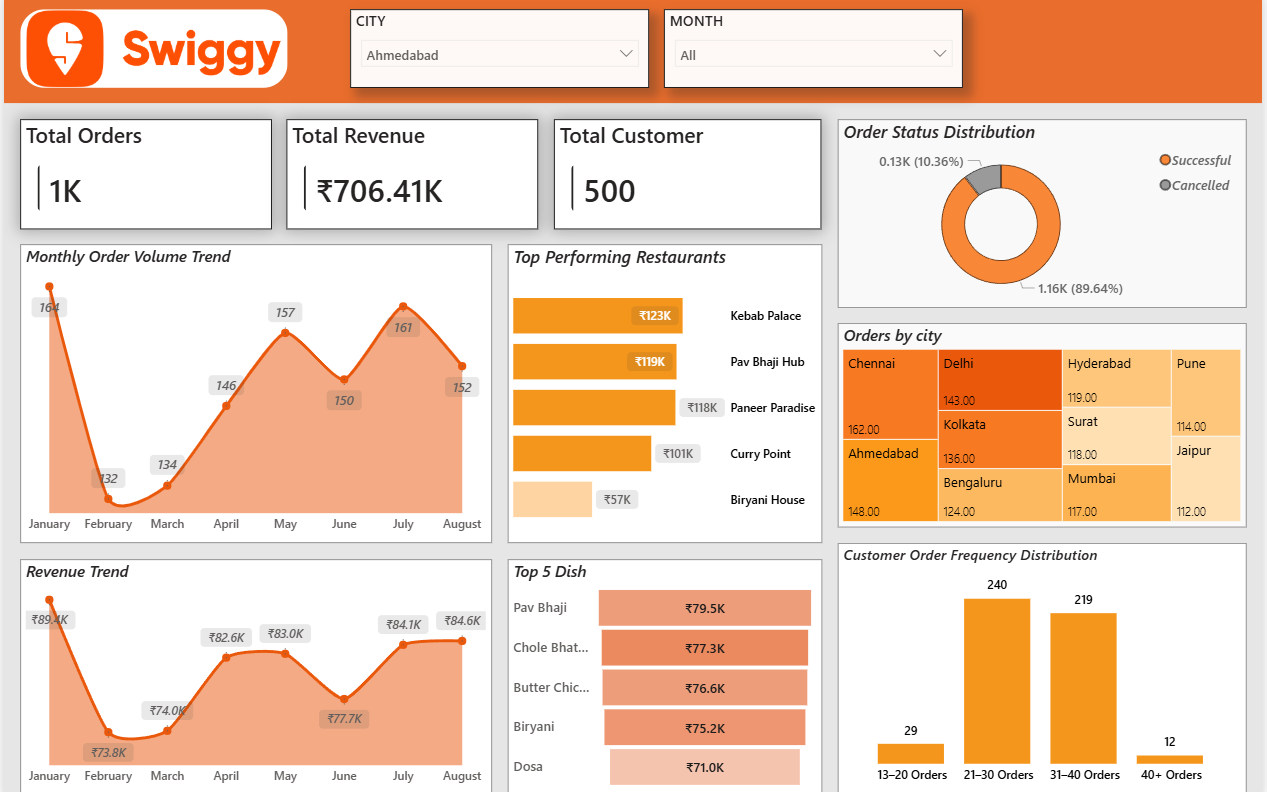

Layout of this report page (visuals, bound fields, positions):
{"tool":"powerbi","page":{"name":"Page 1","canvas":[1280,820],"ordinal":1},"visuals":[{"type":"shape","box":[0,0,1280,112],"z":0},{"type":"image","box":[16,16,272,80],"z":1000},{"type":"cardVisual","title":"Total Orders","fields":{"Data":["order.total_order"]},"box":[16,128,256,112],"z":2000},{"type":"cardVisual","title":"Total Customer","fields":{"Data":["customer.total_customer"]},"box":[560,128,272,112],"z":3000},{"type":"cardVisual","title":"Total Revenue","fields":{"Data":["customer.total_revenue"]},"box":[288,128,256,112],"z":4000},{"type":"donutChart","title":"Order Status Distribution","fields":{"Category":["order.order_status"],"Y":["CountNonNull(order.order_status)"]},"box":[848,128,416,192],"z":5000},{"type":"treemap","title":"Orders by city","fields":{"Group":["customer.city"],"Values":["CountNonNull(order.order_id)"]},"box":[848,336,416,208],"z":6000},{"type":"barChart","title":"Top Performing Restaurants","fields":{"Category":["resturant.restaurant_name"],"Y":["customer.total_revenue"]},"box":[512,256,320,304],"z":7000},{"type":"areaChart","title":"Monthly Order Volume Trend","fields":{"Y":["order.total_order"],"Category":["date.Start of Month.Variation.Date Hierarchy.Month"]},"box":[16,256,480,304],"z":8000},{"type":"areaChart","title":"Revenue Trend","fields":{"Y":["customer.total_revenue"],"Category":["date.Start of Month.Variation.Date Hierarchy.Month"]},"box":[16,576,480,240],"z":9000},{"type":"funnel","title":"Top 5 Dish","fields":{"Category":["order.dish_ordered"],"Y":["customer.total_revenue"]},"box":[512,576,320,240],"z":10000},{"type":"columnChart","title":"Customer Order Frequency Distribution","fields":{"Y":["customer.total_customer"],"Category":["customer.Order Frequency Bucket"]},"box":[848,560,416,256],"z":11000},{"type":"slicer","title":"CITY","fields":{"Values":["resturant.city"]},"box":[352,16,304,80],"z":12000},{"type":"slicer","title":"MONTH","fields":{"Values":["date.Month Name"]},"box":[672,16,304,80],"z":13000}]}

Visuals, with their boxes in screenshot pixels (x1, y1, x2, y2), scaled from the page's 1280x820 canvas onto the 1267x792 screenshot:
shape: (left=0, top=0, right=1266, bottom=108)
image: (left=16, top=15, right=285, bottom=93)
"Total Orders" cardVisual: (left=16, top=124, right=269, bottom=232)
"Total Customer" cardVisual: (left=554, top=124, right=824, bottom=232)
"Total Revenue" cardVisual: (left=285, top=124, right=538, bottom=232)
"Order Status Distribution" donutChart: (left=839, top=124, right=1251, bottom=309)
"Orders by city" treemap: (left=839, top=325, right=1251, bottom=525)
"Top Performing Restaurants" barChart: (left=507, top=247, right=824, bottom=541)
"Monthly Order Volume Trend" areaChart: (left=16, top=247, right=491, bottom=541)
"Revenue Trend" areaChart: (left=16, top=556, right=491, bottom=788)
"Top 5 Dish" funnel: (left=507, top=556, right=824, bottom=788)
"Customer Order Frequency Distribution" columnChart: (left=839, top=541, right=1251, bottom=788)
"CITY" slicer: (left=348, top=15, right=649, bottom=93)
"MONTH" slicer: (left=665, top=15, right=966, bottom=93)
